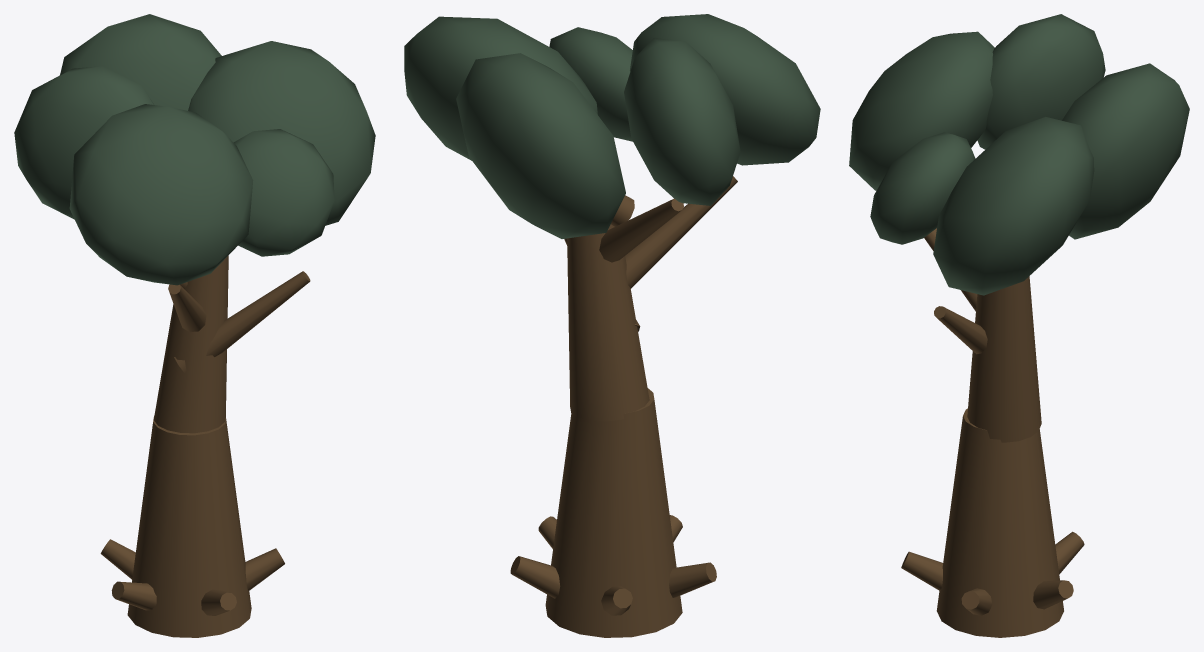
File: prop_twisted_tree.glb
3 renders of one model, left to right at view 1: azimuth 30°, elevation 25°; view 2: azimuth 150°, elevation 25°; view 3: azimuth 270°, elevation 25°, orthographic. The views are drawn at different scales.
Parts seen in each view (by area): view 1: canopy_1, trunk_lower, canopy_4, canopy_2, canopy_0, canopy_3, trunk_upper, branch_0, branch_1, root_2, root_0, root_3 (+1 smaller); view 2: trunk_lower, canopy_3, canopy_2, canopy_1, trunk_upper, canopy_4, canopy_0, branch_1, branch_2, root_4, root_2, root_3; view 3: trunk_lower, canopy_4, canopy_3, canopy_1, canopy_2, trunk_upper, canopy_0, branch_0, root_1, root_4, root_3, root_0.
Boxes of the visible parts, x1=… form: canopy_1: x1=69, y1=104, x2=253, y2=285; trunk_lower: x1=127, y1=416, x2=251, y2=637; canopy_4: x1=188, y1=41, x2=375, y2=225; canopy_2: x1=14, y1=66, x2=153, y2=219; canopy_0: x1=233, y1=129, x2=334, y2=256; canopy_3: x1=60, y1=14, x2=221, y2=110; trunk_upper: x1=153, y1=255, x2=228, y2=433; branch_0: x1=174, y1=271, x2=310, y2=372; branch_1: x1=168, y1=284, x2=206, y2=332; root_2: x1=111, y1=581, x2=156, y2=610; root_0: x1=245, y1=548, x2=284, y2=590; root_3: x1=100, y1=539, x2=135, y2=579; trunk_lower: x1=545, y1=388, x2=682, y2=637; canopy_3: x1=456, y1=53, x2=625, y2=238; canopy_2: x1=624, y1=38, x2=740, y2=205; canopy_1: x1=630, y1=14, x2=820, y2=165; trunk_upper: x1=567, y1=224, x2=649, y2=421; canopy_4: x1=404, y1=16, x2=597, y2=160; canopy_0: x1=549, y1=27, x2=632, y2=141; branch_1: x1=625, y1=176, x2=737, y2=288; branch_2: x1=599, y1=198, x2=683, y2=262; root_4: x1=510, y1=556, x2=560, y2=598; root_2: x1=669, y1=562, x2=716, y2=597; root_3: x1=601, y1=586, x2=632, y2=615; trunk_lower: x1=936, y1=408, x2=1063, y2=637; canopy_4: x1=933, y1=117, x2=1094, y2=295; canopy_3: x1=1062, y1=63, x2=1189, y2=239; canopy_1: x1=849, y1=31, x2=994, y2=190; canopy_2: x1=977, y1=14, x2=1105, y2=149; trunk_upper: x1=967, y1=276, x2=1041, y2=442; canopy_0: x1=870, y1=132, x2=975, y2=244; branch_0: x1=934, y1=306, x2=987, y2=354; root_1: x1=901, y1=551, x2=942, y2=590; root_4: x1=1033, y1=580, x2=1073, y2=609; root_3: x1=1055, y1=531, x2=1084, y2=574; root_0: x1=961, y1=588, x2=992, y2=615.
Size of the model in its own units: 2.03 by 3.33 by 1.82.
